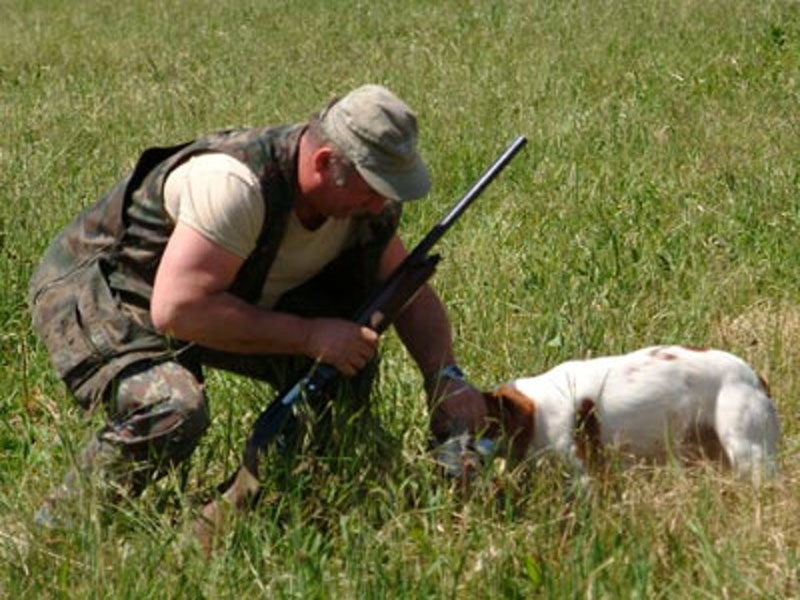cacciatore: (23, 69, 468, 537)
cane da caccia: (417, 334, 786, 503)
fucile: (225, 139, 519, 491)
